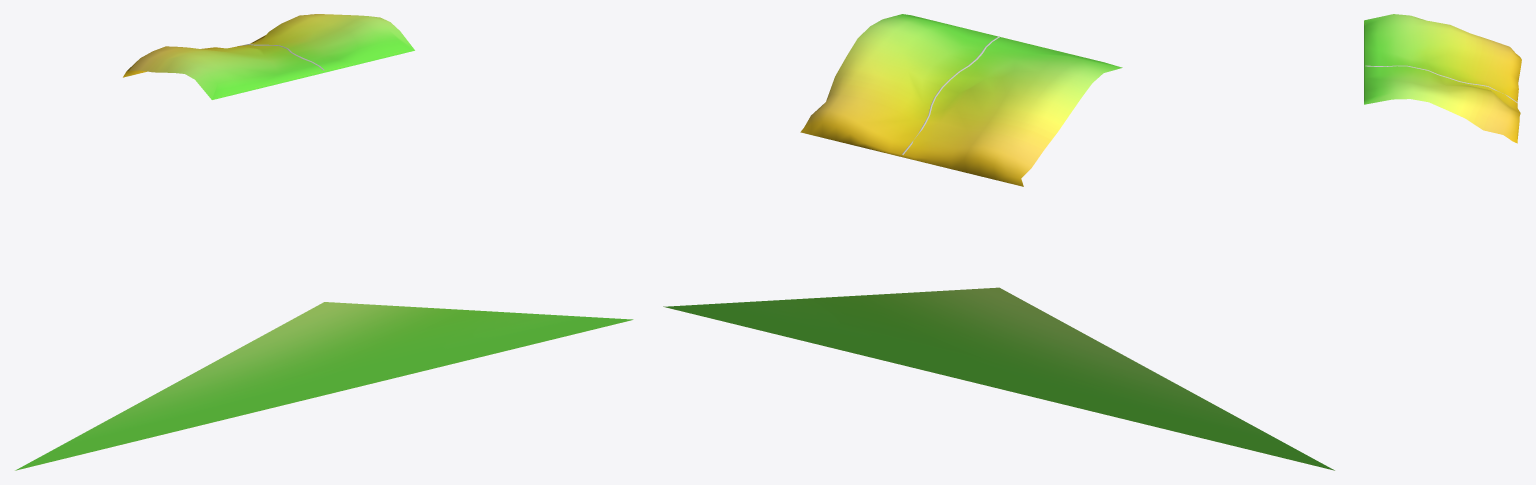
Rendered from L_SummerSpring1.fbx.
The picture shows the model from 3 angles, left to right: view 1: azimuth 30°, elevation 25°; view 2: azimuth 150°, elevation 25°; view 3: azimuth 270°, elevation 25°; orthographic projection. The views are drawn at different scales.
Visible parts, largest first — view 1: Obj, LocSummerSpring1; view 2: Obj, LocSummerSpring1; view 3: LocSummerSpring1, WireSS1.
Part boxes in pixels (x1=…): Obj: x1=15, y1=302, x2=633, y2=470; LocSummerSpring1: x1=123, y1=14, x2=414, y2=99; Obj: x1=663, y1=287, x2=1334, y2=470; LocSummerSpring1: x1=800, y1=14, x2=1122, y2=186; LocSummerSpring1: x1=1364, y1=14, x2=1521, y2=143; WireSS1: x1=1365, y1=65, x2=1517, y2=102.
Bounding box in the file's own units: 200 × 103 × 51.82.
